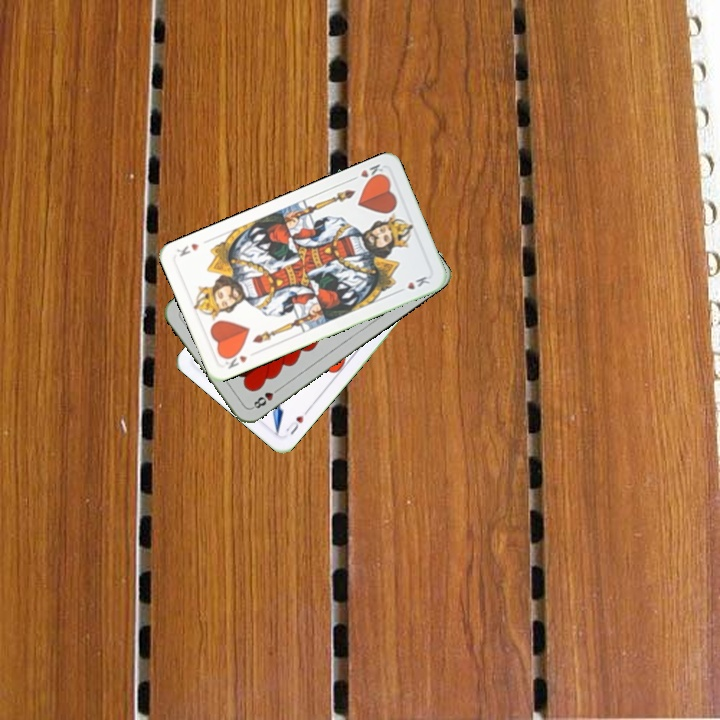H8: (248, 383, 283, 411)
HK: (346, 160, 387, 185), (220, 347, 250, 371)
HU: (282, 405, 311, 438)
